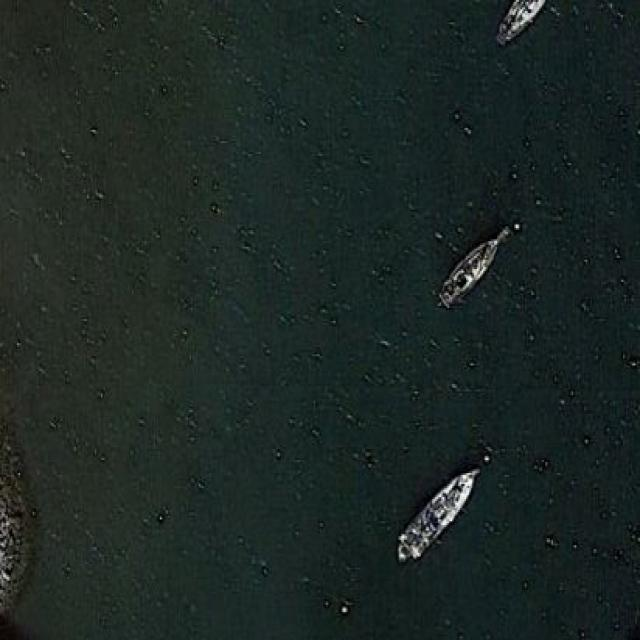ship: (392, 462, 484, 562), (436, 225, 508, 306), (492, 0, 552, 52)
